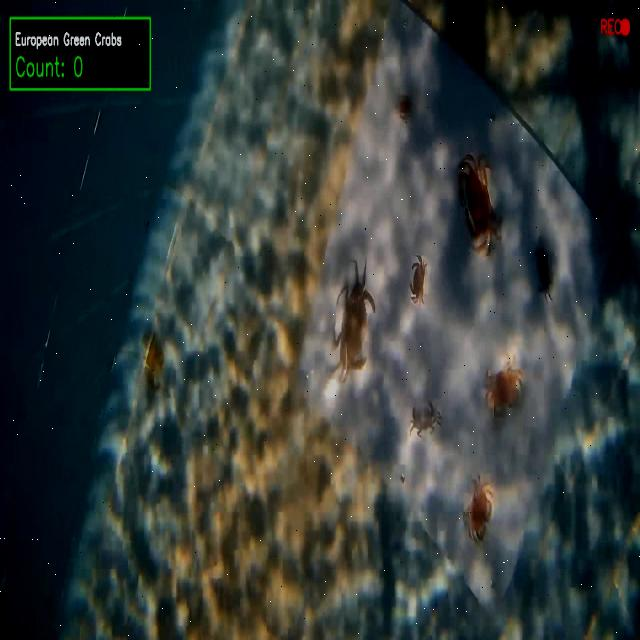European_Green_Crab: (330, 260, 376, 383), (408, 393, 445, 444), (531, 239, 558, 305)
